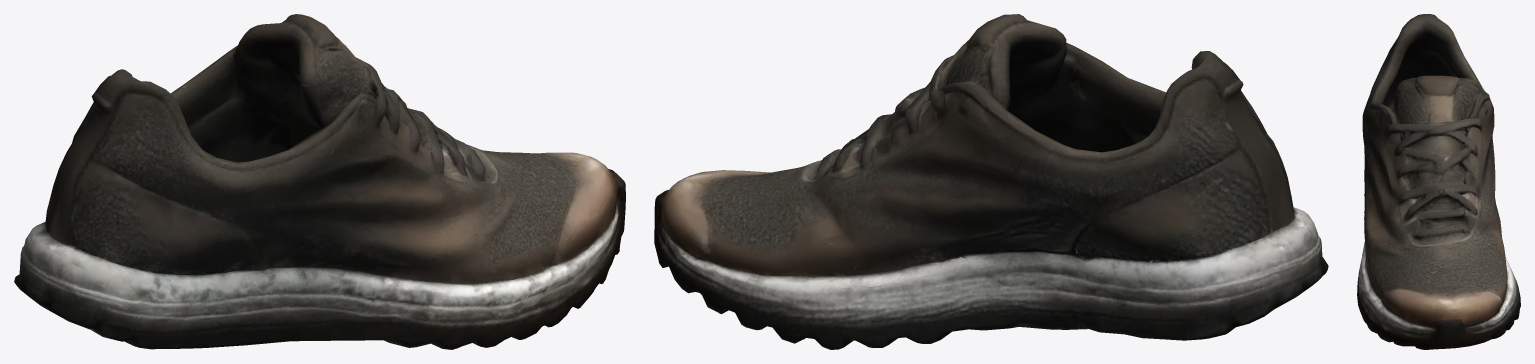
Rendered from trail-shoe.glb.
The picture shows the model from 3 angles, left to right: view 1: azimuth 30°, elevation 25°; view 2: azimuth 150°, elevation 25°; view 3: azimuth 270°, elevation 25°; orthographic projection. The views are drawn at different scales.
Parts seen in each view (by area): view 1: geometry_0; view 2: geometry_0; view 3: geometry_0.
Part boxes in pixels (<box>): geometry_0: <box>14,14,625,349</box>; geometry_0: <box>654,14,1328,349</box>; geometry_0: <box>1357,14,1520,349</box>.
Size of the model in its own units: 1 by 0.4894 by 0.3677.
1 material, 1 textured.
